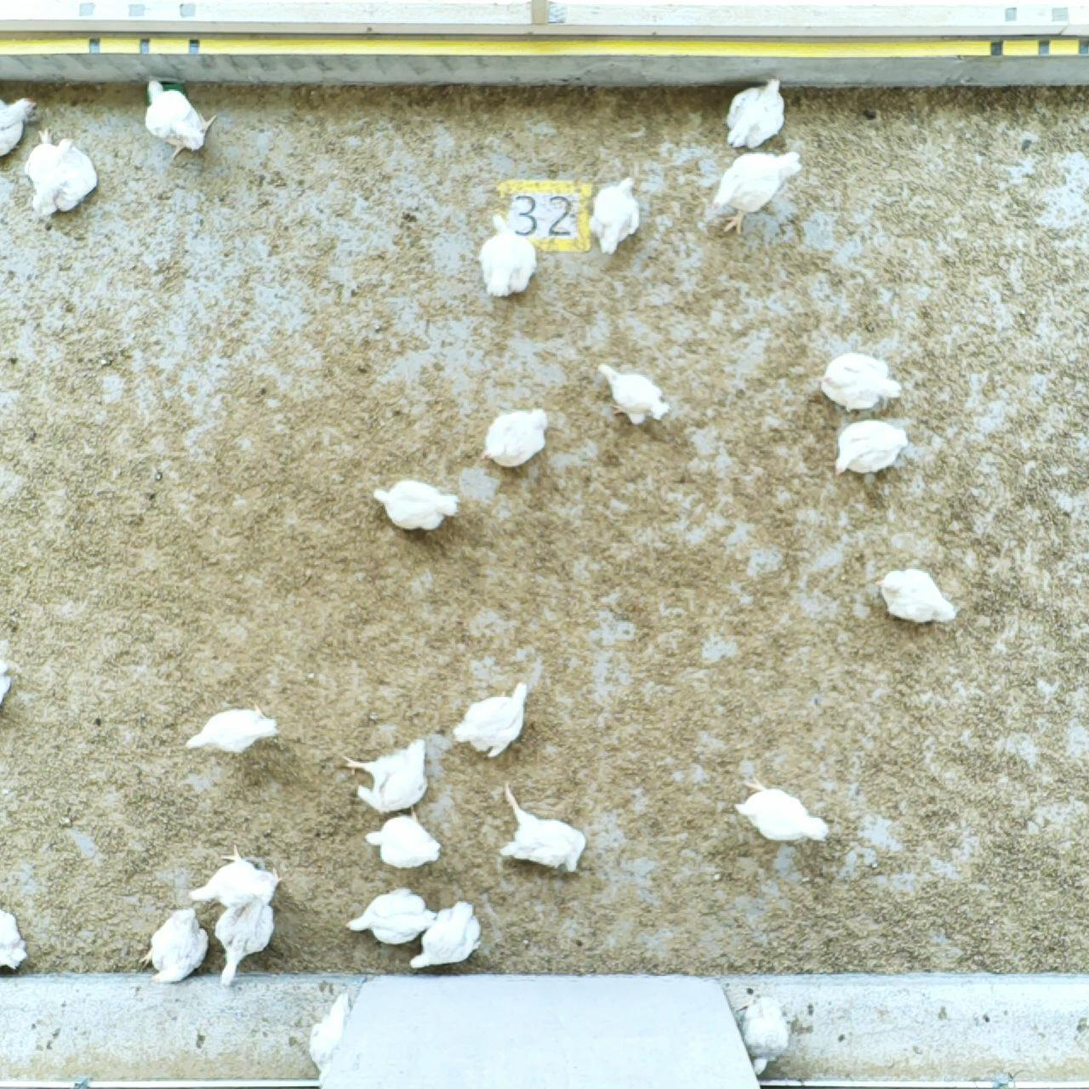chicken: (710, 144, 806, 238), (496, 781, 589, 878), (26, 127, 101, 223), (346, 731, 429, 815), (450, 678, 535, 759), (732, 775, 829, 845), (211, 891, 276, 990), (136, 76, 214, 158), (140, 905, 215, 986), (344, 885, 438, 948), (184, 700, 285, 757), (406, 897, 483, 969), (818, 348, 904, 411), (477, 211, 538, 299), (724, 71, 791, 151), (365, 802, 445, 869), (370, 475, 459, 535), (738, 990, 795, 1078), (879, 563, 957, 627), (594, 359, 673, 422), (832, 416, 912, 478), (479, 403, 551, 469), (589, 174, 647, 254), (0, 633, 31, 719), (0, 93, 36, 167), (0, 906, 28, 979)
